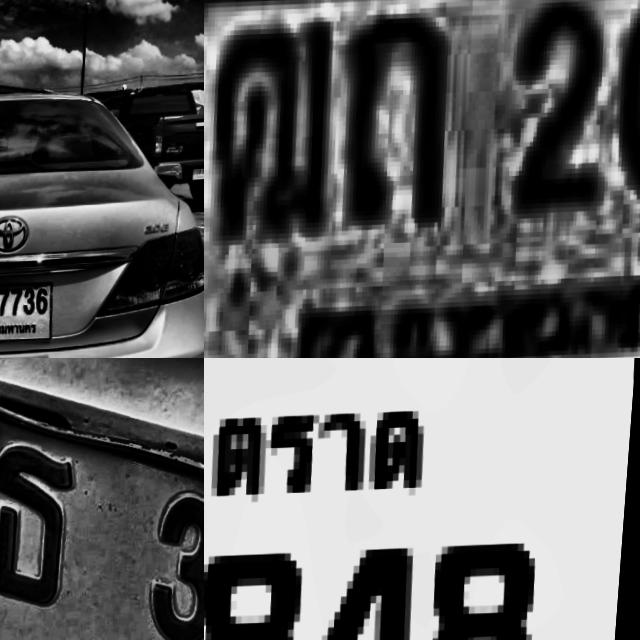license-plate: (204, 0, 640, 358), (204, 358, 640, 640), (0, 358, 204, 640), (0, 278, 60, 344), (193, 164, 204, 181)
